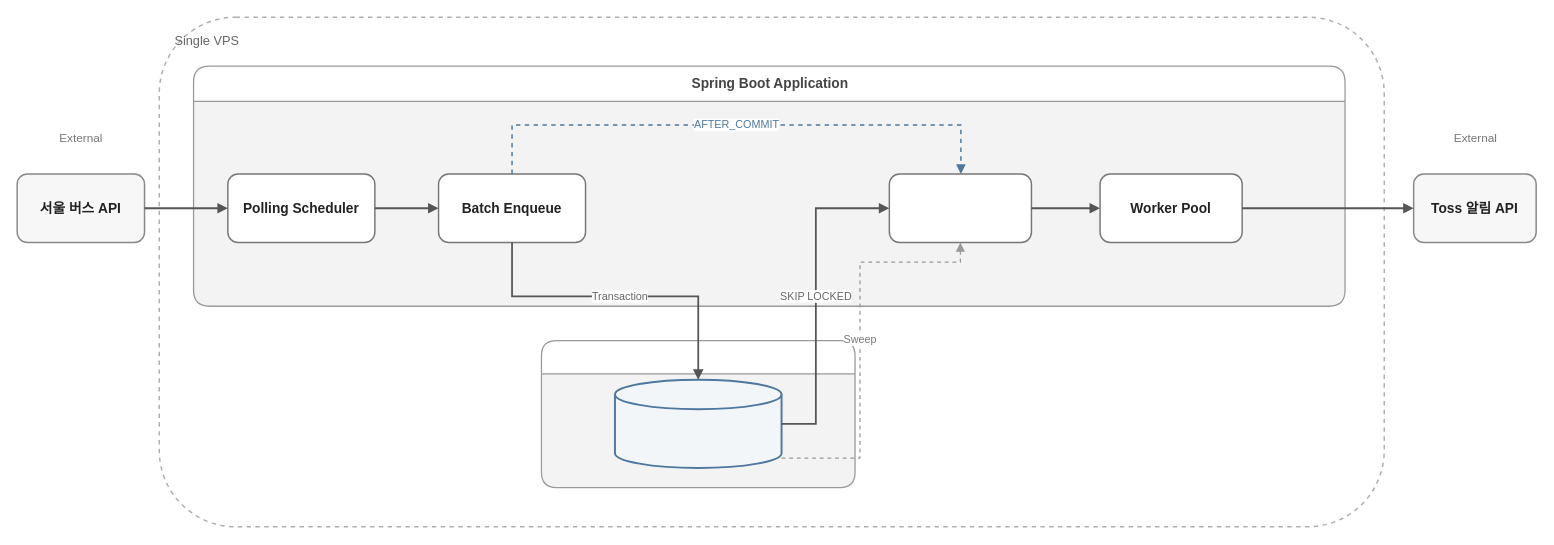
This 1554x545 diagram has some shape labels left out. The shapes that lost their labels are listed below. From the top down, each one's box as (x1, y1, x2, y2) in pixels, then its label:
(888, 173, 1032, 243): Relay Loop
(540, 339, 855, 488): PostgreSQL Container
(613, 378, 782, 468): PostgreSQL Alert · Outbox
